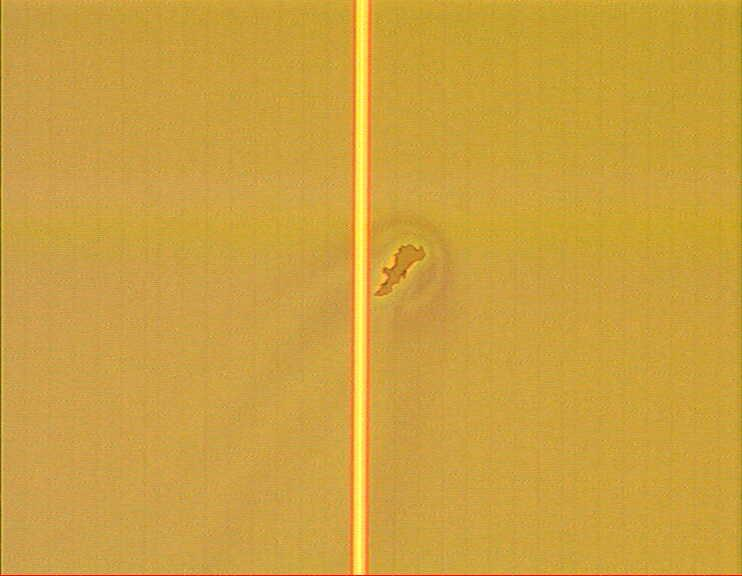PIQ PARTICLE: (372, 241, 431, 303)
